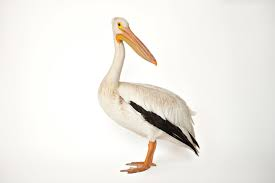pelican: (98, 16, 200, 175)
